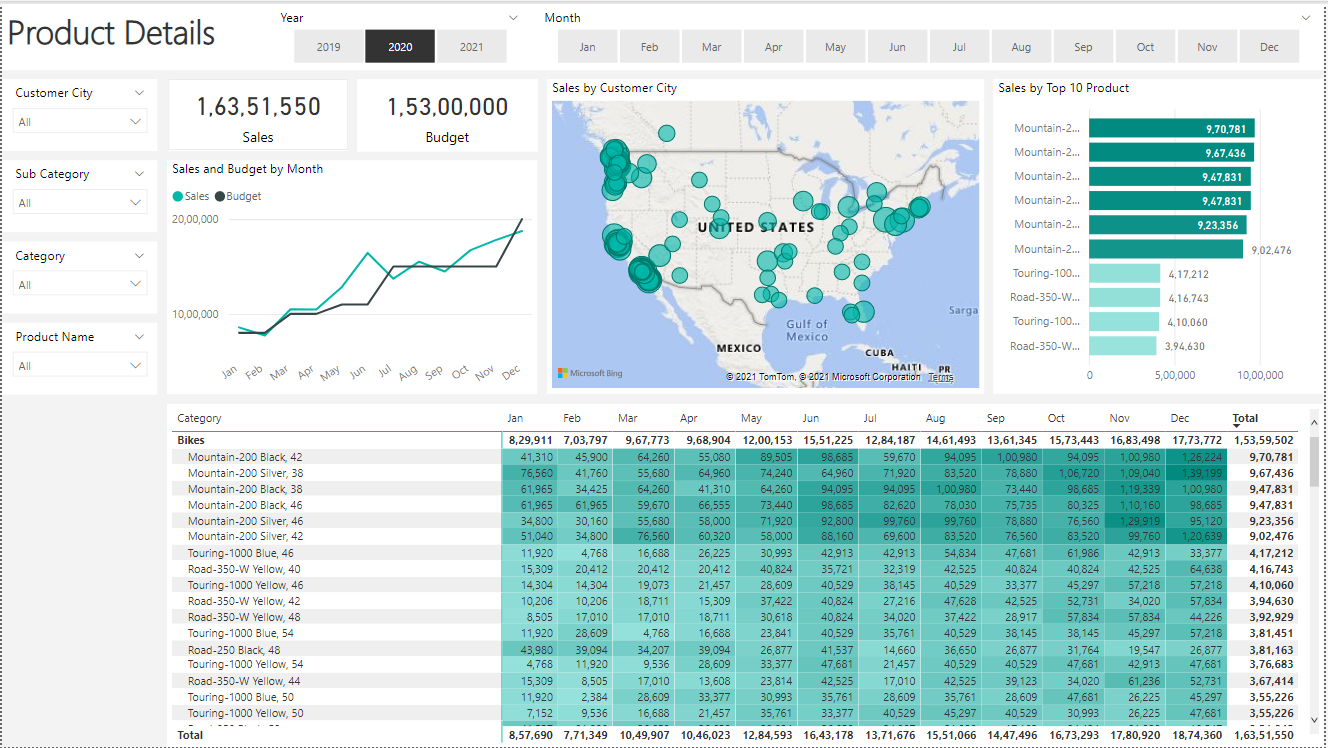

The dashboard page shown, as its layout file describes it:
{"tool":"powerbi","page":{"name":"Product Details","canvas":[1280,720],"ordinal":2},"visuals":[{"type":"textbox","box":[0,0,1280,64],"z":0},{"type":"slicer","fields":{"Values":["DIM_Calendar.Year"]},"box":[256,0,256,64],"z":1000},{"type":"slicer","fields":{"Values":["DIM_Calendar.MonthShort"]},"box":[512,0,768,64],"z":2000},{"type":"slicer","fields":{"Values":["DIM_Customers.Customer City"]},"box":[0,73,150.5,69.3],"z":3000},{"type":"slicer","fields":{"Values":["DIM_Products.Product Category"]},"box":[0,229.9,150.5,69.3],"z":4000},{"type":"slicer","fields":{"Values":["DIM_Products.Product Name"]},"box":[0,308.4,150.5,69.3],"z":5000},{"type":"slicer","fields":{"Values":["DIM_Products.Sub Category"]},"box":[0,151.4,150.5,69.3],"z":6000},{"type":"lineChart","fields":{"Category":["DIM_Calendar.MonthShort"],"Y":["Analysis Metrics.Sales","Analysis Metrics.Budget"]},"box":[159.8,151.8,358.7,226.4],"z":7000},{"type":"card","fields":{"Values":["Analysis Metrics.Sales"]},"box":[160.7,72.8,174,69.2],"z":8000},{"type":"map","fields":{"Category":["DIM_Customers.Customer City"],"Size":["Analysis Metrics.Sales"]},"box":[527.3,72.8,423.5,304.5],"z":9000},{"type":"card","fields":{"Values":["Analysis Metrics.Budget"]},"box":[343.6,72.8,174.9,70.1],"z":10000},{"type":"pivotTable","fields":{"Rows":["DIM_Products.Product Category","DIM_Products.Product Name"],"Columns":["DIM_Calendar.MonthShort"],"Values":["Analysis Metrics.Sales"]},"box":[159.8,387.1,1120.4,332.9],"z":11000},{"type":"clusteredBarChart","title":"Sales by Top 10 Product","fields":{"Category":["DIM_Products.Product Name"],"Y":["Analysis Metrics.Sales"]},"box":[959.7,72.8,320.5,304.5],"z":12000}]}

Visuals, with their boxes in screenshot pixels (x1, y1, x2, y2), scaled from the page's 1280x720 canvas onto the 1328x748 screenshot:
textbox: (left=0, top=0, right=1327, bottom=66)
slicer - DIM_Calendar.Year: (left=266, top=0, right=531, bottom=66)
slicer - DIM_Calendar.MonthShort: (left=531, top=0, right=1327, bottom=66)
slicer - DIM_Customers.Customer City: (left=0, top=76, right=156, bottom=148)
slicer - DIM_Products.Product Category: (left=0, top=239, right=156, bottom=311)
slicer - DIM_Products.Product Name: (left=0, top=320, right=156, bottom=392)
slicer - DIM_Products.Sub Category: (left=0, top=157, right=156, bottom=229)
lineChart - DIM_Calendar.MonthShort x Analysis Metrics.Sales: (left=166, top=158, right=538, bottom=393)
card - Analysis Metrics.Sales: (left=167, top=76, right=347, bottom=148)
map - DIM_Customers.Customer City x Analysis Metrics.Sales: (left=547, top=76, right=986, bottom=392)
card - Analysis Metrics.Budget: (left=356, top=76, right=538, bottom=148)
pivotTable - DIM_Products.Product Category x DIM_Products.Product Name: (left=166, top=402, right=1327, bottom=747)
"Sales by Top 10 Product" clusteredBarChart: (left=996, top=76, right=1327, bottom=392)
